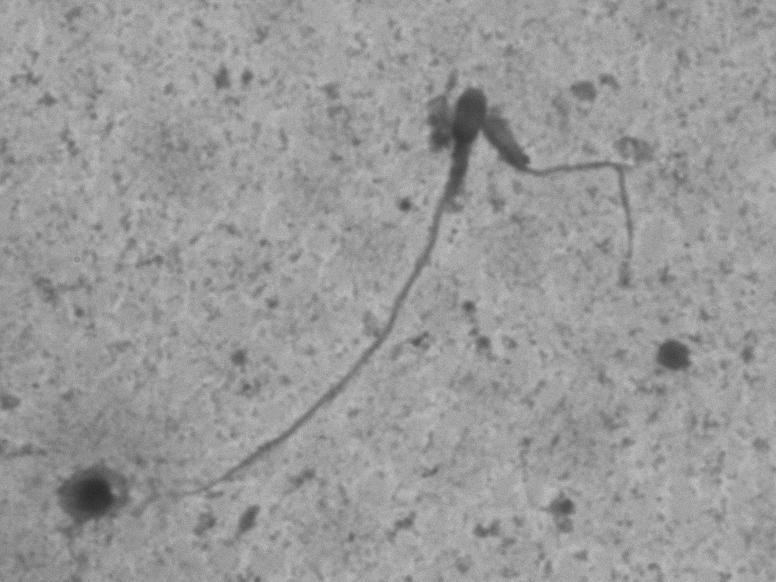Abnormal: (146, 74, 494, 515)
